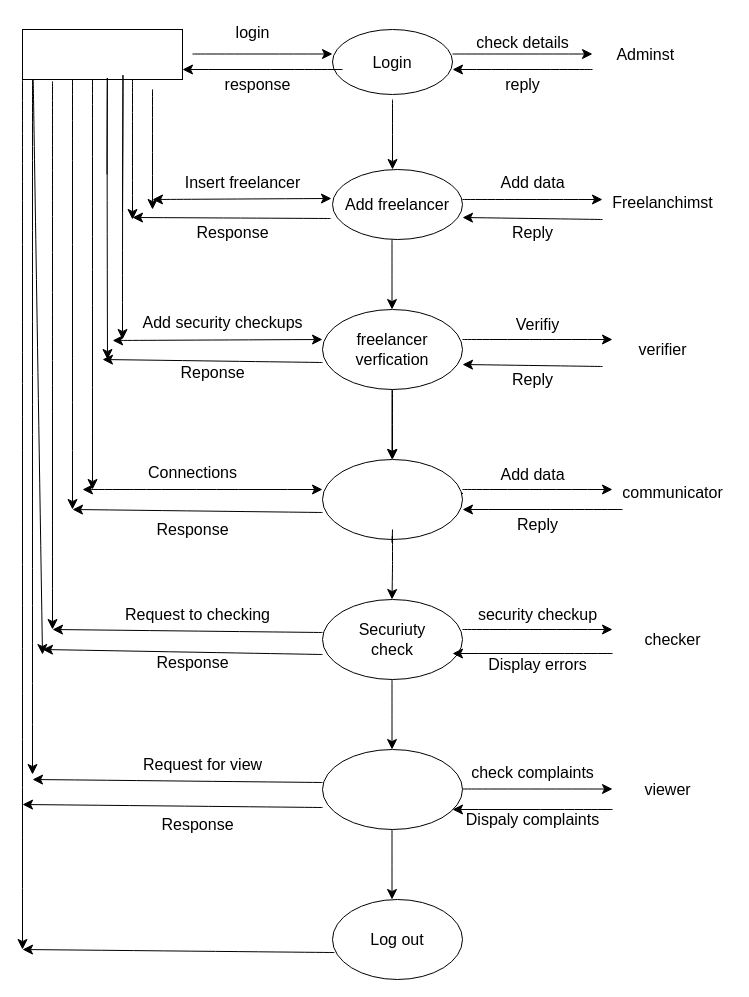
Some shapes in this 749 by 997 pixel diagram are drawn without their labels. Here are the shapes that lost their labels. From the top down, the box of each, then its label:
(22, 28, 182, 80): Admin
(322, 458, 462, 540): communication of users
(322, 748, 462, 830): View Complaints
